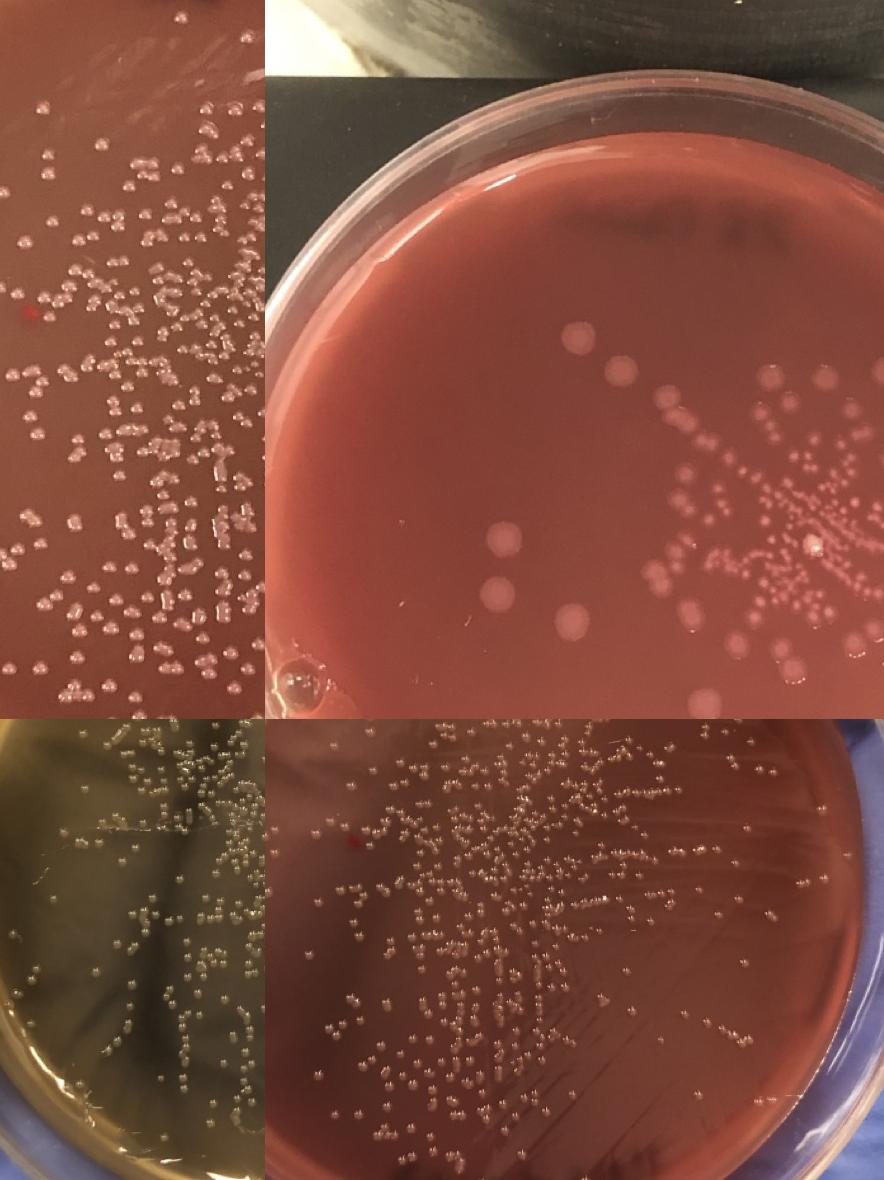assalmonicida: (360, 806, 444, 857), (451, 836, 502, 868), (194, 758, 232, 799), (542, 734, 570, 775), (186, 278, 219, 310), (186, 441, 224, 467), (195, 946, 222, 982), (236, 213, 265, 245), (130, 156, 162, 184), (642, 887, 677, 911), (97, 209, 126, 236), (193, 652, 219, 680), (210, 312, 232, 344), (569, 894, 610, 911), (57, 676, 82, 702), (96, 358, 122, 383), (68, 432, 88, 464), (530, 1016, 548, 1051), (177, 1009, 204, 1032), (544, 872, 566, 900), (239, 190, 265, 213), (149, 474, 170, 502), (152, 287, 180, 307), (444, 1150, 467, 1174), (428, 877, 457, 896), (29, 374, 50, 400), (348, 883, 368, 910), (72, 227, 100, 246), (206, 897, 225, 925), (437, 1016, 465, 1035), (231, 410, 254, 432), (434, 722, 457, 744), (128, 300, 146, 328), (68, 264, 96, 282), (530, 808, 551, 832), (173, 812, 192, 838), (535, 854, 562, 872), (180, 520, 197, 548), (106, 392, 123, 420), (544, 958, 569, 977), (577, 737, 599, 757), (217, 150, 246, 165), (555, 801, 570, 830), (208, 350, 232, 368), (178, 206, 202, 224), (231, 786, 255, 804), (199, 122, 222, 140), (0, 548, 17, 572), (562, 932, 591, 946), (184, 556, 204, 576), (230, 261, 250, 281), (176, 774, 197, 793), (613, 744, 634, 763), (58, 364, 78, 383), (244, 963, 265, 981), (227, 726, 244, 748), (570, 815, 586, 838), (251, 632, 265, 658), (140, 504, 154, 530), (162, 984, 176, 1010), (450, 980, 468, 1000), (406, 879, 426, 897), (188, 383, 202, 408), (246, 281, 265, 299), (176, 342, 200, 356), (470, 780, 494, 794), (250, 359, 265, 381), (492, 1039, 507, 1061), (80, 354, 96, 374), (106, 255, 130, 268), (468, 1002, 480, 1028), (410, 943, 426, 961), (764, 908, 780, 926), (630, 824, 649, 839), (164, 914, 184, 928), (140, 906, 160, 920), (128, 762, 148, 776), (456, 922, 476, 936), (388, 779, 409, 792), (474, 1106, 489, 1124), (507, 840, 522, 858), (625, 903, 637, 925), (446, 804, 459, 824), (257, 899, 265, 931), (126, 940, 141, 957), (515, 1050, 533, 1064), (795, 876, 813, 890), (726, 754, 740, 772), (252, 94, 265, 113), (230, 858, 243, 877), (149, 356, 169, 368), (480, 926, 500, 938), (474, 950, 491, 964), (374, 883, 391, 897), (580, 762, 598, 775), (158, 803, 170, 822), (157, 766, 169, 785), (141, 725, 160, 737), (476, 816, 488, 835), (240, 1060, 256, 1074), (214, 852, 230, 866), (180, 1034, 192, 1052), (122, 1018, 134, 1036), (243, 850, 255, 868), (415, 798, 433, 810), (546, 794, 558, 812), (418, 762, 430, 780), (184, 496, 198, 511), (109, 450, 123, 465), (136, 445, 150, 460), (6, 368, 20, 383), (509, 922, 524, 936), (488, 874, 509, 884), (744, 734, 758, 749), (530, 1088, 541, 1107), (436, 990, 447, 1009), (414, 908, 425, 927), (480, 719, 499, 730), (518, 873, 538, 883), (700, 722, 711, 740), (127, 691, 141, 705), (82, 688, 96, 702), (228, 681, 242, 695), (70, 650, 84, 664), (224, 646, 238, 660), (160, 645, 174, 659), (196, 631, 210, 645), (72, 623, 86, 637), (90, 609, 104, 623), (109, 592, 123, 606), (140, 591, 154, 605), (50, 588, 64, 602), (178, 586, 192, 600), (60, 572, 74, 586), (157, 570, 171, 584), (124, 560, 138, 574), (103, 559, 117, 573), (11, 542, 25, 556), (142, 538, 156, 552), (217, 538, 231, 552), (35, 538, 49, 552), (121, 527, 135, 541), (99, 428, 113, 442), (31, 428, 45, 442), (162, 412, 176, 426), (130, 402, 144, 416), (171, 398, 185, 412), (245, 382, 259, 396), (120, 378, 134, 392), (208, 371, 222, 385), (131, 334, 145, 348), (104, 334, 118, 348), (42, 310, 56, 324), (88, 294, 102, 308), (53, 293, 67, 307), (37, 290, 51, 304), (11, 286, 25, 300), (128, 284, 142, 298), (62, 279, 76, 293), (153, 261, 167, 275), (18, 234, 32, 248), (178, 232, 192, 246), (194, 230, 208, 244), (142, 229, 156, 243), (138, 207, 152, 221), (210, 193, 224, 207), (221, 179, 235, 193), (122, 179, 136, 193), (242, 168, 256, 182), (42, 147, 56, 161), (241, 133, 255, 147), (228, 102, 242, 116), (738, 1034, 752, 1048), (113, 469, 126, 484), (120, 748, 136, 760), (467, 868, 486, 878), (102, 680, 116, 693), (242, 662, 256, 675), (158, 662, 172, 675), (34, 662, 48, 675), (2, 662, 16, 675), (130, 629, 144, 642), (103, 621, 117, 634), (153, 611, 167, 624), (192, 611, 206, 624), (124, 606, 138, 619), (37, 598, 51, 611), (214, 566, 227, 580), (113, 512, 126, 526), (214, 482, 227, 496), (23, 410, 36, 424), (113, 290, 126, 304), (181, 255, 195, 268), (80, 205, 94, 218), (170, 163, 184, 176), (814, 804, 828, 817), (70, 604, 82, 618), (88, 581, 100, 595), (238, 568, 250, 582), (240, 548, 252, 562), (68, 514, 80, 528), (190, 432, 202, 446), (115, 424, 127, 438), (136, 366, 148, 380), (231, 364, 243, 378), (108, 318, 120, 332), (166, 304, 178, 318), (46, 215, 58, 229), (42, 168, 54, 182), (96, 138, 108, 152), (240, 30, 252, 44), (644, 915, 656, 929), (441, 780, 453, 794), (169, 719, 180, 734), (450, 1110, 466, 1120), (248, 329, 260, 342), (219, 227, 231, 240), (178, 422, 190, 434), (221, 392, 233, 404), (121, 346, 133, 358), (206, 338, 218, 350), (157, 326, 169, 338), (171, 321, 183, 333), (249, 312, 261, 324), (227, 304, 239, 316), (202, 271, 214, 283), (165, 199, 177, 211), (195, 143, 207, 155), (200, 103, 212, 115), (37, 102, 49, 114), (175, 12, 187, 24), (594, 925, 606, 937), (614, 893, 626, 905), (634, 870, 646, 882), (563, 870, 575, 882), (768, 766, 780, 778), (428, 1098, 438, 1112), (233, 319, 245, 330), (196, 319, 208, 330), (133, 710, 147, 719), (256, 581, 265, 595), (0, 184, 9, 198), (152, 714, 176, 719), (258, 407, 265, 421), (251, 714, 265, 719), (0, 279, 5, 293), (261, 117, 265, 131), (262, 432, 265, 446), (262, 172, 265, 185)
tmaritimum: (654, 386, 720, 453), (769, 636, 811, 688), (792, 588, 839, 628), (841, 618, 884, 658), (780, 522, 826, 558), (740, 549, 792, 580), (480, 576, 516, 612), (486, 520, 522, 556), (602, 352, 638, 388), (555, 606, 591, 641), (561, 322, 597, 357), (641, 560, 673, 598), (686, 686, 722, 719), (809, 362, 843, 394), (755, 362, 789, 394), (676, 596, 706, 632), (704, 548, 740, 575), (784, 448, 820, 475), (758, 578, 790, 608), (669, 489, 699, 520), (742, 596, 766, 632), (709, 482, 731, 520), (869, 352, 884, 407), (840, 454, 857, 491), (839, 397, 863, 421), (725, 632, 748, 656), (673, 462, 696, 486), (779, 392, 802, 416), (748, 400, 771, 422), (760, 482, 776, 512), (840, 496, 863, 514), (862, 583, 884, 600), (793, 564, 810, 584), (664, 542, 682, 560), (720, 448, 738, 466), (769, 430, 787, 448), (852, 570, 866, 592), (680, 534, 698, 551), (701, 511, 718, 529), (807, 430, 824, 448), (734, 464, 750, 481), (758, 514, 772, 528), (808, 497, 822, 511), (750, 469, 763, 484), (780, 549, 792, 562)
